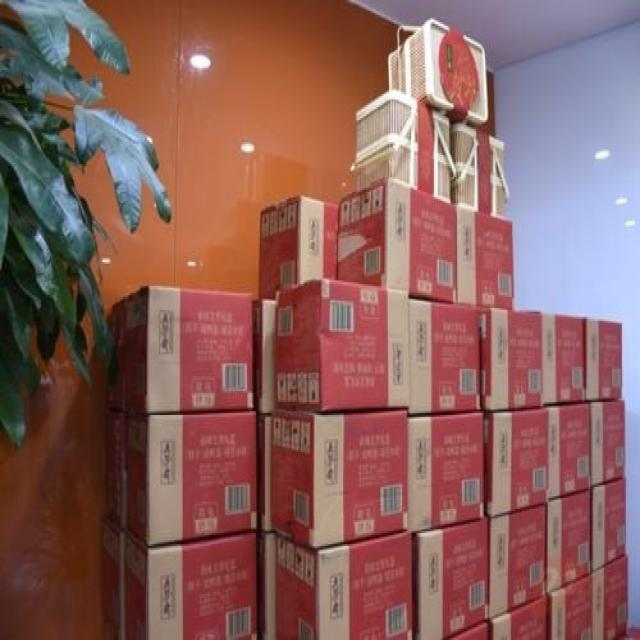box: (270, 409, 408, 550), (106, 286, 253, 413), (124, 409, 257, 546), (274, 279, 408, 413), (275, 529, 416, 640), (335, 177, 456, 302), (124, 531, 257, 638), (389, 17, 489, 129), (351, 92, 452, 201), (408, 411, 485, 533), (415, 516, 490, 640), (408, 295, 483, 415), (259, 194, 338, 299), (485, 406, 549, 518), (488, 505, 549, 622), (481, 308, 544, 409), (454, 201, 513, 308), (452, 116, 509, 219), (547, 489, 593, 594), (547, 398, 591, 504), (543, 314, 586, 404), (588, 398, 625, 489), (102, 409, 128, 531), (548, 572, 594, 640), (593, 478, 626, 572), (593, 553, 628, 640), (586, 317, 623, 398), (490, 592, 548, 640), (102, 515, 124, 640), (253, 299, 275, 417), (255, 408, 273, 531), (257, 529, 276, 640), (443, 622, 489, 638)
